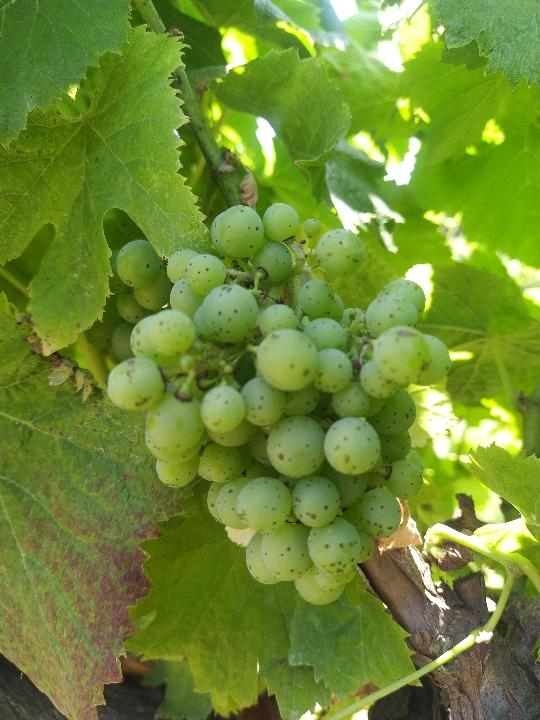grape: (105, 201, 457, 606)
